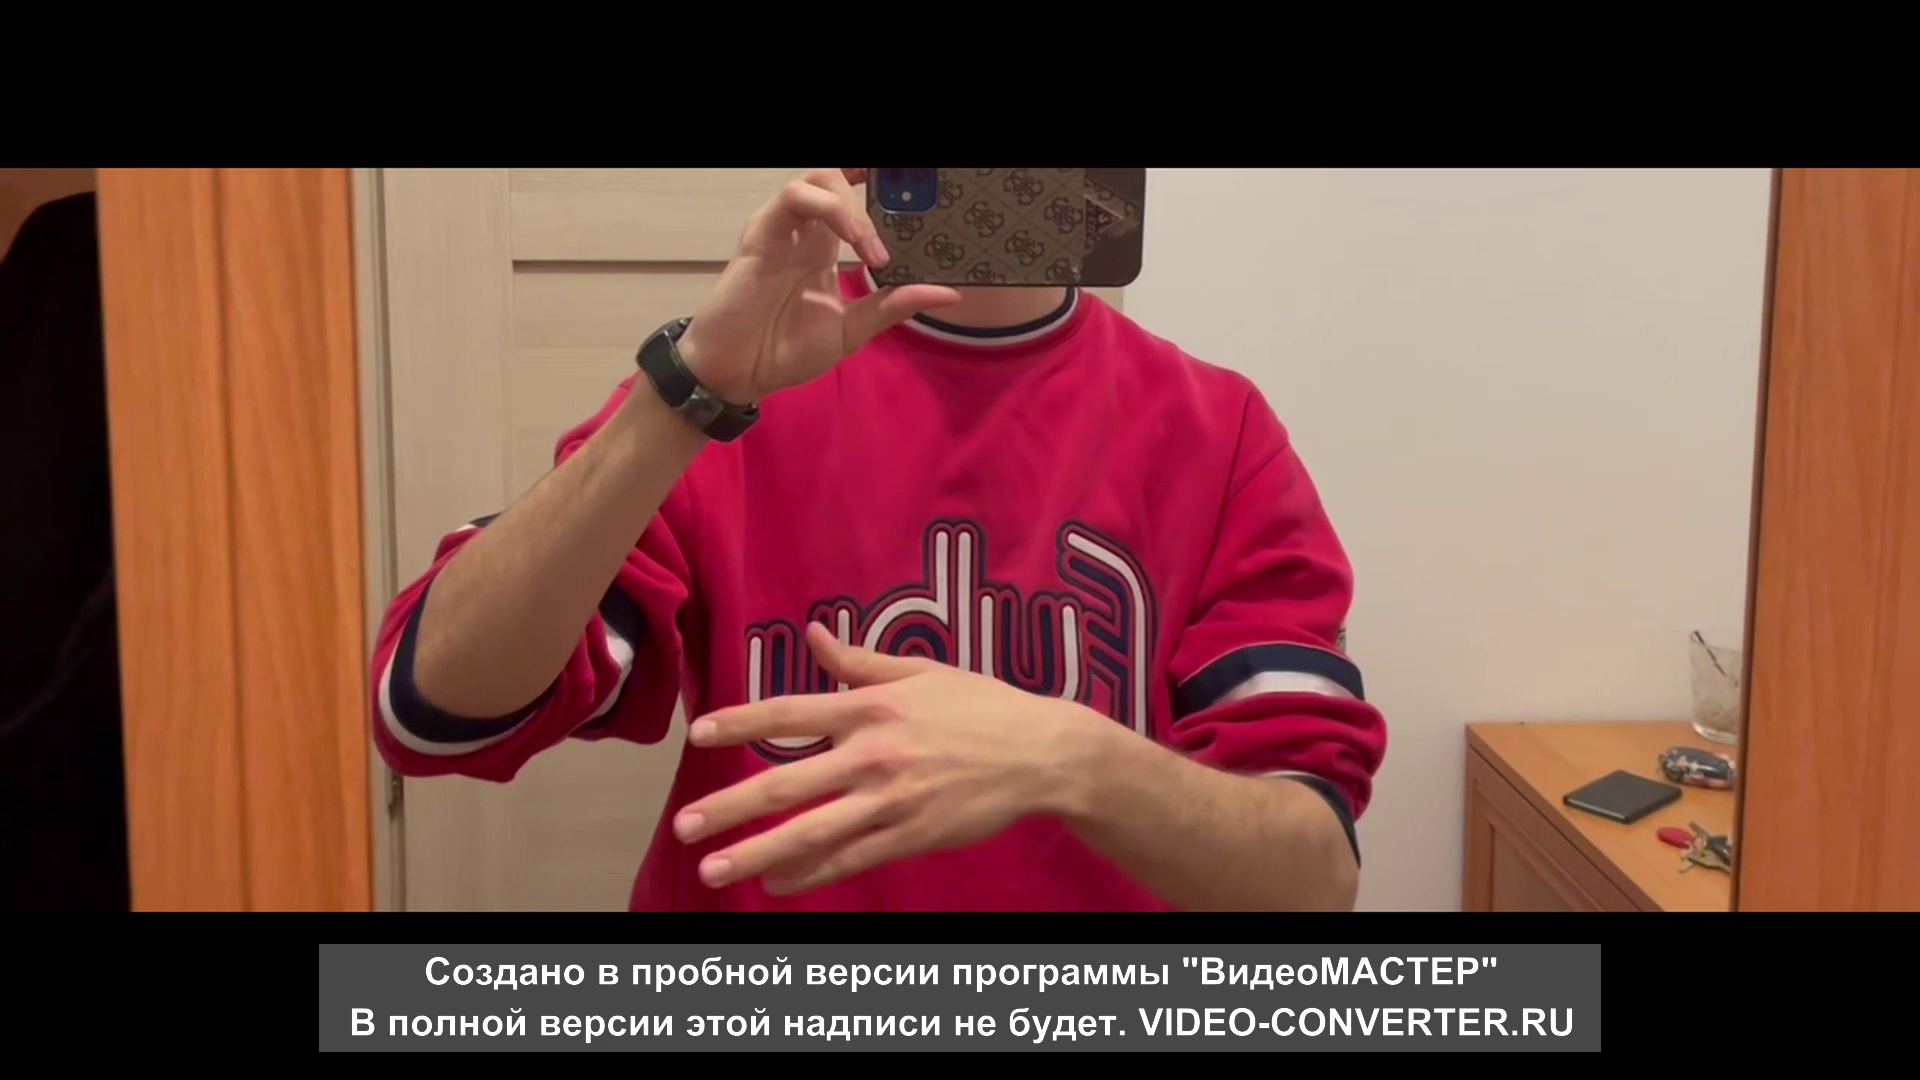Кисть: (671, 622, 1040, 894)
